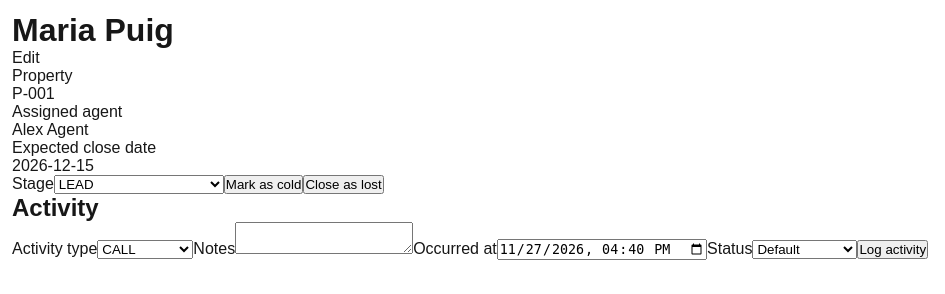
Test: Deal detail view › a logged VIEWING activity with no status chosen shows as SCHEDULED
Expected: the link "Maria Puig" is shown, [12,12,174,48]
Select "VIEWING" in the dropdown labelled "Activity type" at (145, 250), box [97,240,193,259]
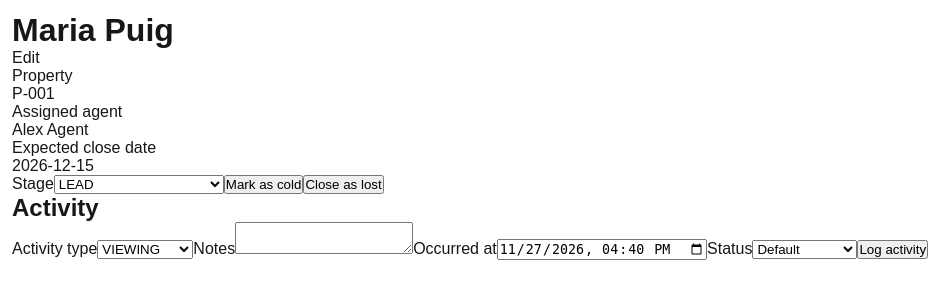
Click the button "Log activity" at (893, 250), box [857,240,928,259]
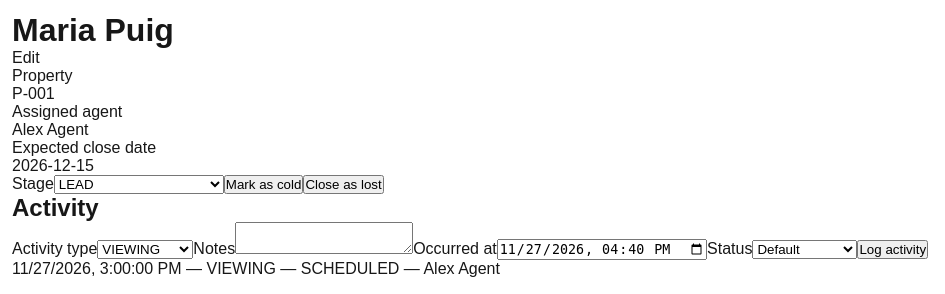
Now the text "SCHEDULED" is shown, box [301,260,399,277]
